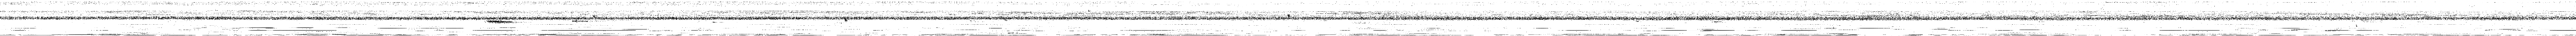meteor: (486, 20, 514, 23)
